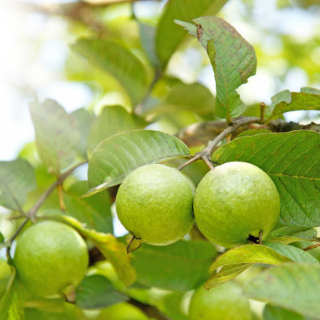oi: (194, 161, 276, 247), (116, 163, 194, 246), (14, 220, 87, 299)
